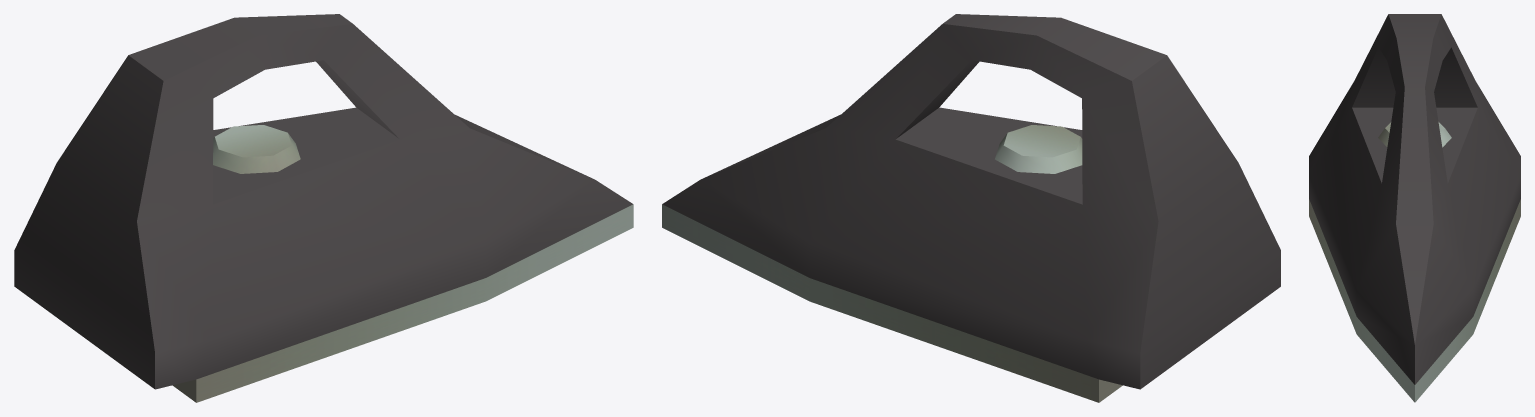
The model's file is SM_Ironing_Machine_1_02.fbx.
The picture shows the model from 3 angles, left to right: view 1: azimuth 30°, elevation 25°; view 2: azimuth 150°, elevation 25°; view 3: azimuth 270°, elevation 25°; orthographic projection. The views are drawn at different scales.
Visible parts, largest first — view 1: SM_Ironing_Machine_1_02; view 2: SM_Ironing_Machine_1_02; view 3: SM_Ironing_Machine_1_02.
Boxes of the visible parts, box(x1,y1,x2,y2) form: SM_Ironing_Machine_1_02: box(14, 14, 633, 402); SM_Ironing_Machine_1_02: box(662, 14, 1280, 402); SM_Ironing_Machine_1_02: box(1309, 14, 1520, 402).
Size of the model in its own units: 24.78 by 12.75 by 11.
